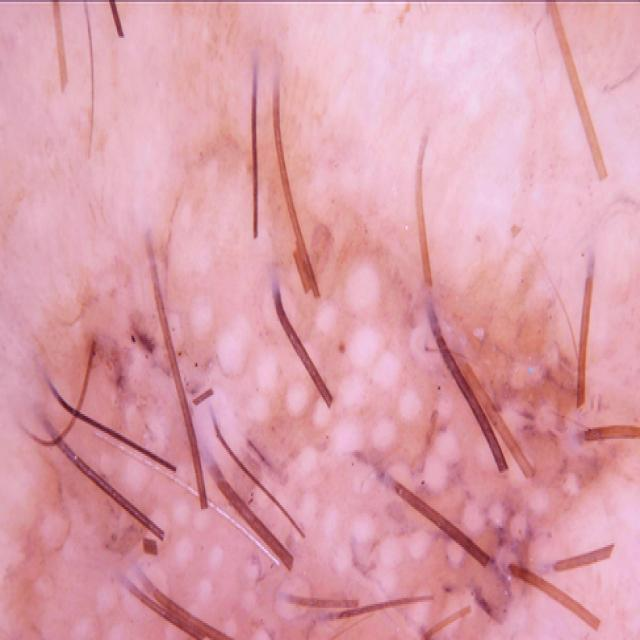Melanoma: (0, 237, 640, 640)
